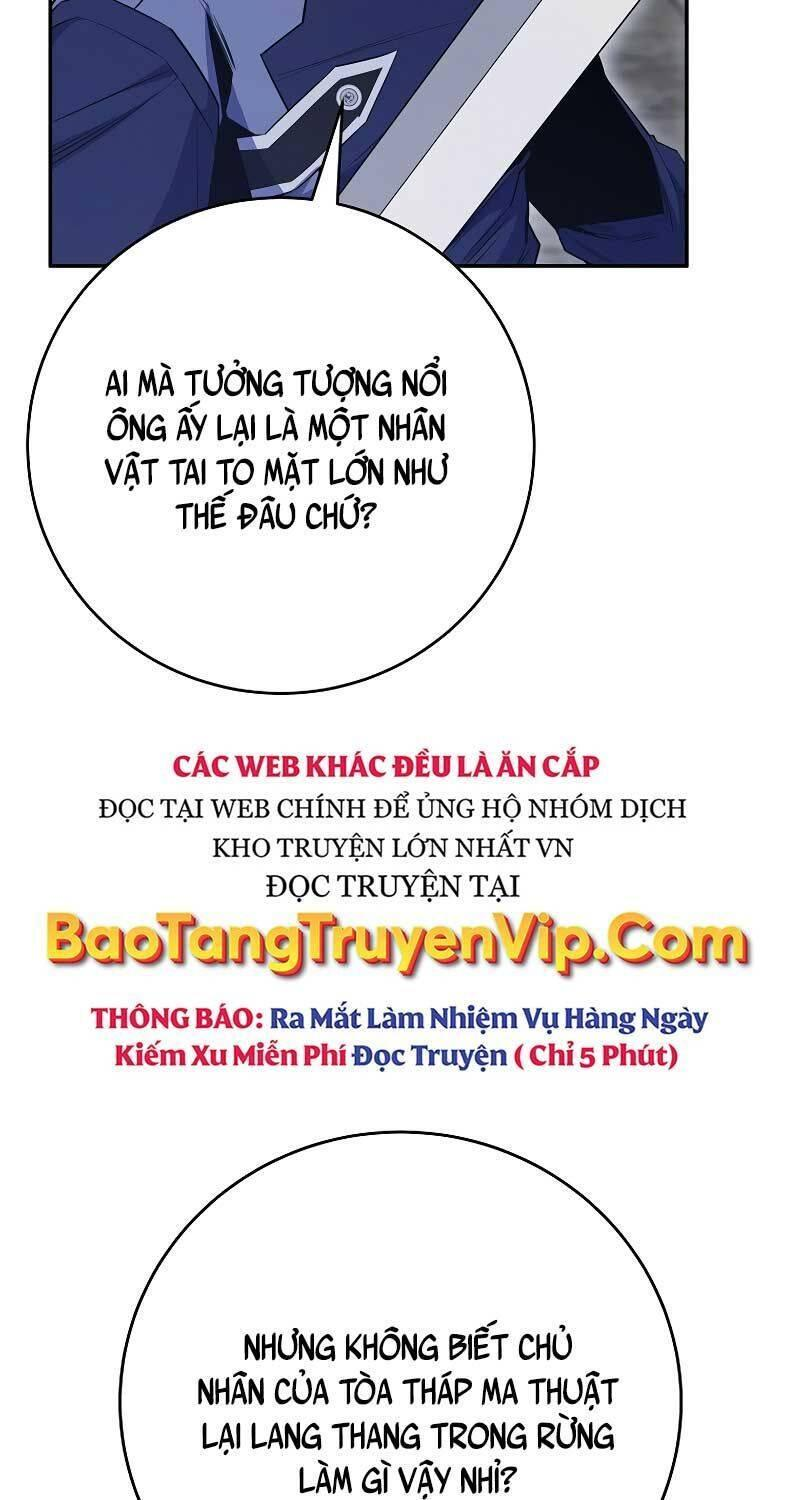quangcao: (34, 742, 772, 1092)
